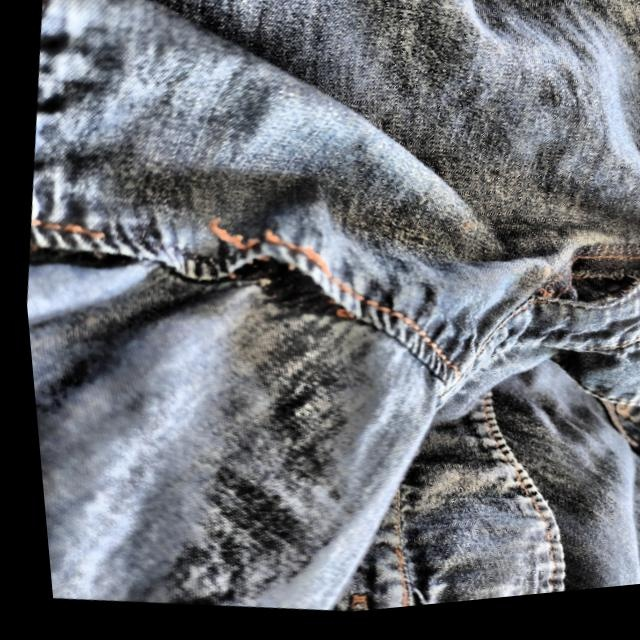seam: (188, 229, 362, 342), (510, 225, 640, 343)
